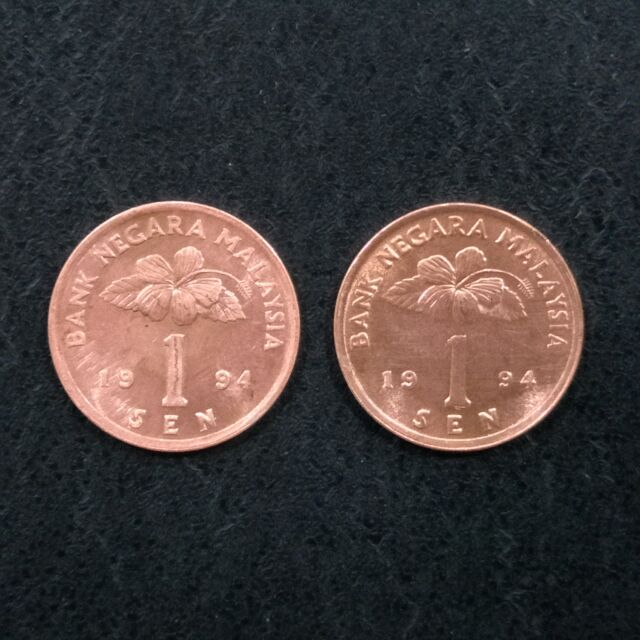1c: (45, 200, 302, 456), (331, 201, 586, 453)
